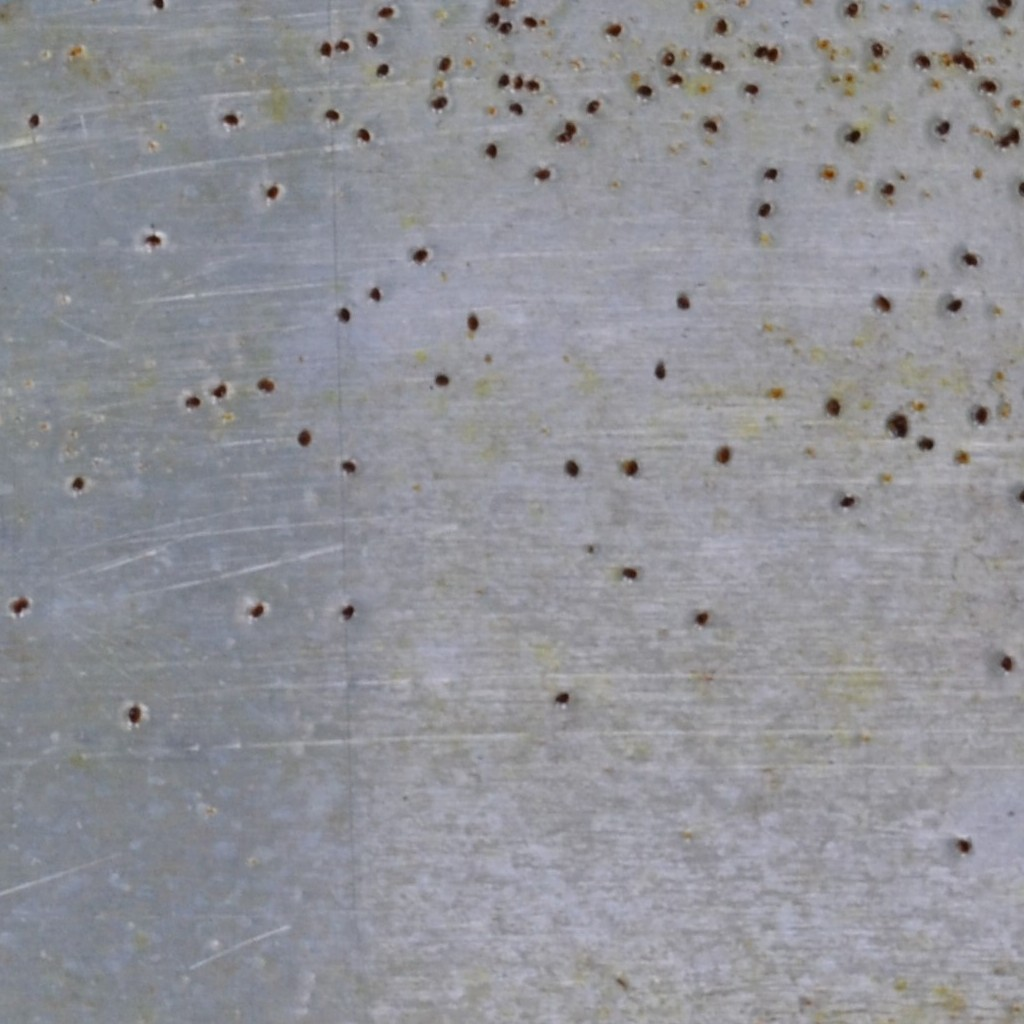varroa: (294, 426, 314, 451), (946, 293, 965, 319), (562, 455, 580, 480), (650, 357, 667, 383), (409, 247, 430, 268), (183, 394, 204, 415), (431, 369, 453, 389), (464, 308, 480, 335), (998, 651, 1015, 676), (713, 446, 733, 467), (429, 94, 449, 115), (220, 109, 241, 129), (335, 305, 354, 327), (124, 703, 143, 725), (836, 493, 859, 511), (915, 436, 935, 456), (551, 688, 571, 708), (341, 600, 357, 625), (210, 380, 229, 401), (142, 229, 164, 247), (871, 292, 890, 312), (333, 36, 351, 57), (825, 396, 842, 418), (961, 248, 979, 268), (338, 457, 358, 475), (955, 836, 972, 857), (674, 293, 691, 314), (634, 83, 655, 100), (436, 54, 453, 75), (250, 601, 266, 623), (887, 414, 909, 430), (693, 609, 712, 627), (603, 22, 622, 40), (913, 54, 933, 71), (521, 13, 538, 33), (585, 97, 602, 117), (69, 474, 86, 494), (26, 111, 41, 133), (367, 282, 382, 304), (263, 183, 281, 201), (934, 119, 951, 138), (843, 127, 862, 144), (620, 565, 639, 582), (483, 141, 499, 161), (376, 4, 396, 20), (985, 4, 1006, 19), (979, 78, 997, 95), (666, 69, 684, 86), (373, 62, 390, 80), (879, 182, 898, 198), (317, 40, 333, 59), (364, 29, 379, 49), (505, 102, 526, 116), (660, 52, 677, 69), (524, 77, 541, 94), (354, 125, 371, 142), (713, 16, 729, 34), (701, 118, 719, 134), (973, 406, 988, 425), (756, 201, 771, 220), (532, 166, 551, 181), (322, 107, 341, 122), (625, 458, 639, 478), (742, 82, 759, 98), (870, 40, 885, 58), (762, 167, 780, 182), (148, 0, 167, 14), (766, 44, 778, 66), (484, 12, 500, 28), (495, 72, 510, 89), (753, 43, 767, 61), (512, 73, 524, 94), (1008, 125, 1021, 144), (963, 54, 975, 74), (498, 20, 513, 36), (698, 51, 712, 68), (18, 593, 31, 611), (845, 2, 860, 17), (563, 119, 578, 134), (8, 598, 21, 615), (555, 132, 575, 143), (951, 49, 964, 65), (710, 60, 727, 72), (894, 426, 908, 440), (996, 135, 1011, 148), (263, 380, 276, 395), (256, 375, 268, 391), (996, 0, 1015, 8), (1016, 178, 1023, 198), (495, 0, 515, 7), (1017, 486, 1023, 507)
